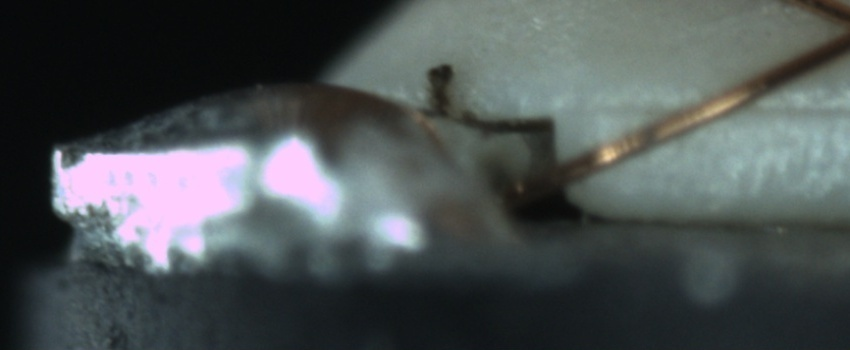DL: (604, 76, 846, 144)
